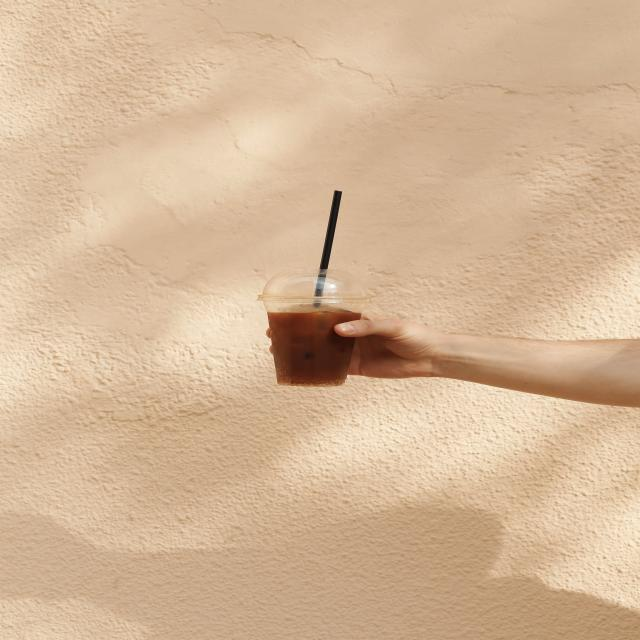cup: (259, 271, 370, 387)
